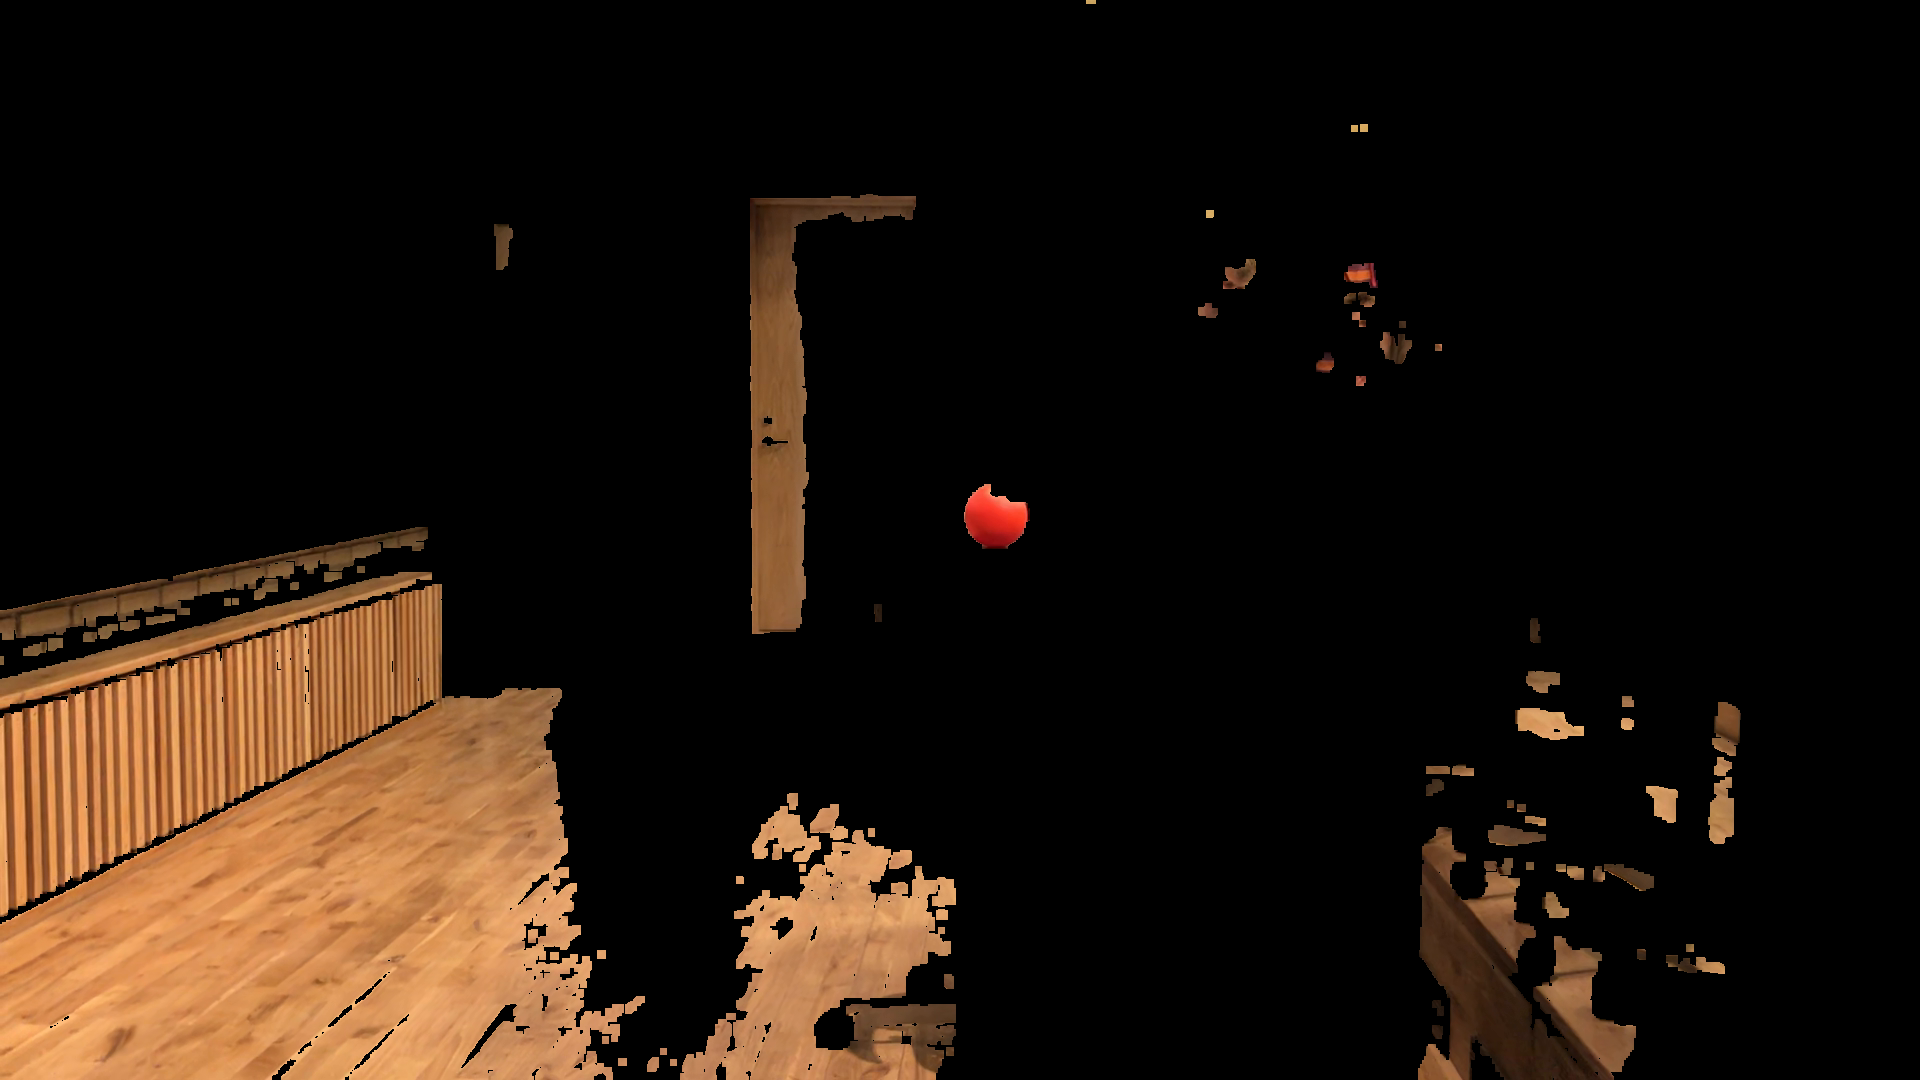Ball: (961, 480, 1034, 550)
